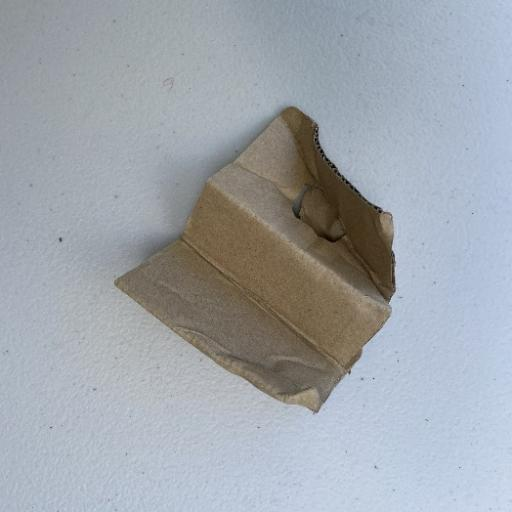Cardboard: (112, 105, 398, 415)
